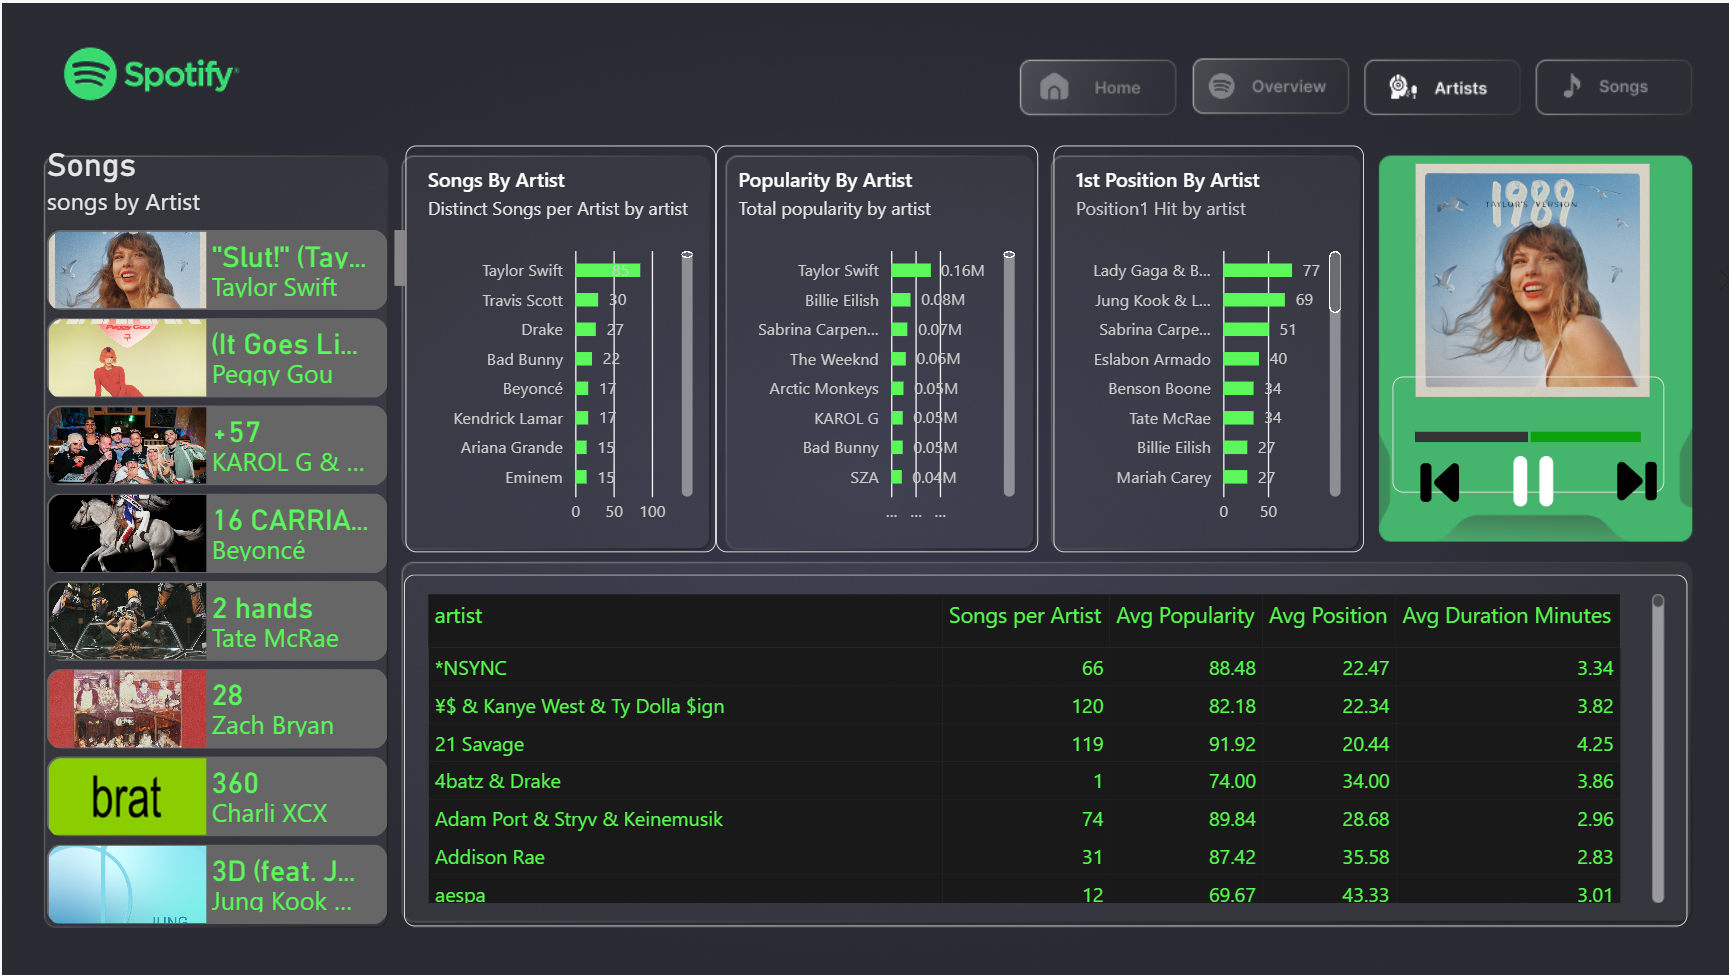

Layout of this report page (visuals, bound fields, positions):
{"tool":"powerbi","page":{"name":"Artist","canvas":[1920,1080],"ordinal":2},"visuals":[{"type":"actionButton","box":[1075.7,218.6,114.3,40],"z":0},{"type":"actionButton","box":[1201.4,218.6,114.3,40],"z":1000},{"type":"actionButton","box":[1328.6,218.6,114.3,40],"z":2000},{"type":"actionButton","box":[1454.3,218.6,114.3,40],"z":3000},{"type":"advancedSlicerVisual","title":"Songs","fields":{"Values":["Top-50-World.song"]},"box":[1301.4,295.7,305.7,175.7],"z":4000},{"type":"hundredPercentStackedBarChart","fields":{"Y":["_Measure.Avg Popularity","Avg(Top-50-World.popularity)"]},"box":[1350,454.3,201.4,85.7],"z":5000},{"type":"image","box":[1511.4,515.7,40,32.9],"z":6000},{"type":"image","box":[1367.1,517.1,37.1,32.9],"z":7000},{"type":"image","box":[1420,512.9,68.6,37.1],"z":8000},{"type":"shape","box":[1338.6,295.7,231.4,278.6],"z":9000},{"type":"clusteredBarChart","title":"Songs By Artist","fields":{"Category":["Top-50-World.artist"],"Y":["_Measure.Distinct Songs per Artist"]},"box":[618.6,282.9,230,301.4],"z":10000},{"type":"clusteredBarChart","title":"Popularity By Artist","fields":{"Category":["Top-50-World.artist"],"Y":["Sum(Top-50-World.popularity)"]},"box":[848.6,282.9,238.6,301.4],"z":11000},{"type":"clusteredBarChart","title":"1st Position By Artist","fields":{"Category":["Top-50-World.artist"],"Y":["_Measure.Position1 Hits per Artist"]},"box":[1098.6,282.9,230,301.4],"z":12000},{"type":"advancedSlicerVisual","title":"Songs","fields":{"Values":["Top-50-World.song"]},"box":[352.9,282.9,265.7,578.6],"z":13000},{"type":"tableEx","fields":{"Values":["Top-50-World.artist","_Measure.Songs per Artist","_Measure.Avg Popularity","_Measure.Avg Position","_Measure.Avg Duration Minutes"]},"box":[618.3,601.1,950.9,260.8],"z":13001}]}

Visuals, with their boxes in screenshot pixels (x1, y1, x2, y2), scaled from the page's 1920x1080 canvas onto the 1729x975 screenshot:
actionButton: 969:197:1072:233
actionButton: 1082:197:1185:233
actionButton: 1196:197:1299:233
actionButton: 1310:197:1413:233
"Songs" advancedSlicerVisual: 1172:267:1447:426
hundredPercentStackedBarChart - _Measure.Avg Popularity x Avg(Top-50-World.popularity): 1216:410:1397:488
image: 1361:466:1397:495
image: 1231:467:1265:497
image: 1279:463:1341:497
shape: 1205:267:1414:518
"Songs By Artist" clusteredBarChart: 557:255:764:527
"Popularity By Artist" clusteredBarChart: 764:255:979:527
"1st Position By Artist" clusteredBarChart: 989:255:1196:527
"Songs" advancedSlicerVisual: 318:255:557:778
tableEx - Top-50-World.artist x _Measure.Songs per Artist: 557:543:1413:778
